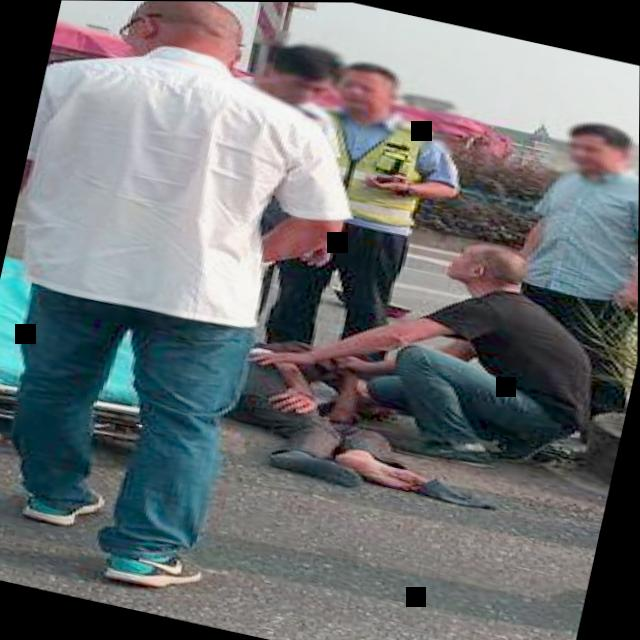Fall-Detected: (176, 298, 533, 527)
